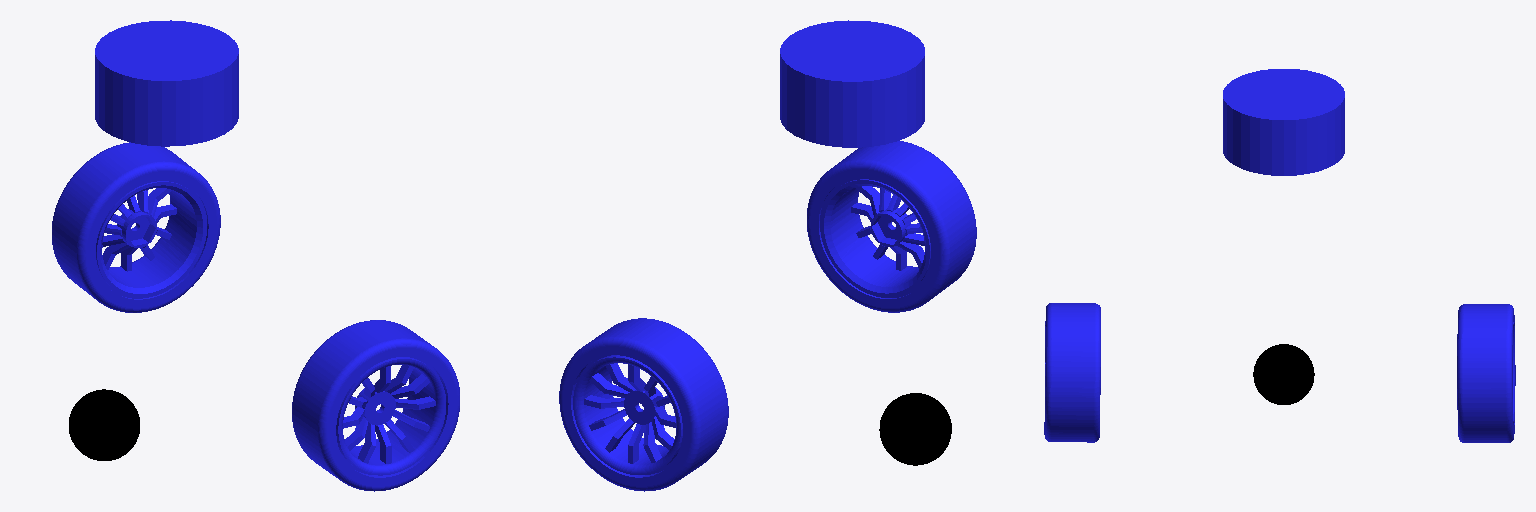
The robot description file, URDF, robot "robot":
<?xml version="1.0" ?>
<!-- =================================================================================== -->
<!-- |    This document was autogenerated by xacro from robot.urdf.xacro               | -->
<!-- |    EDITING THIS FILE BY HAND IS NOT RECOMMENDED                                 | -->
<!-- =================================================================================== -->
<robot name="robot">
  <!-- Specify some standard inertial calculations https://en.wikipedia.org/wiki/List_of_moments_of_inertia -->
  <!-- These make use of xacro's mathematical functionality -->
  <material name="white">
    <color rgba="1 1 1 1"/>
  </material>
  <material name="orange">
    <color rgba="1 0.3 0.1 1"/>
  </material>
  <material name="blue">
    <color rgba="0.2 0.2 1 1"/>
  </material>
  <material name="black">
    <color rgba="0 0 0 1"/>
  </material>
  <!-- BASE LINK -->
  <link name="base_link">

    </link>
  <!-- CHASSIS LINK -->
  <joint name="chassis_joint" type="fixed">
    <parent link="base_link"/>
    <child link="chassis"/>
    <origin xyz = "0 0 0"/>
  </joint>
  <link name="chassis">
    <visual>
      <!-- <origin xyz="0.15 0 0.075"/> -->
      <geometry>
        <!-- import file stl มีหน่วยเป็นเมตร ขนาดคือส่วนที่กำหนดมาแล้วจาก STL โดยที่ปรับคือการปรับ scale xyz `-->
        <mesh filename="package://mobile-0244/stl/assbodynew.STL" scale = "0.001 0.001 0.001 "/>
        <!-- <box size="0.3 0.3 0.15"/> -->
      </geometry>
      <!-- y x z -->
      <origin xyz = "-0.1 -0.105 -0.07 " rpy = "1.56 0 1.56" />
      <material name="white"/>
    </visual>
    <collision>
      <!-- <origin xyz="0.15 0 0.075"/> -->
      <geometry>
        <!-- import file stl มีหน่วยเป็นเมตร ขนาดคือส่วนที่กำหนดมาแล้วจาก STL โดยที่ปรับคือการปรับ scale xyz `-->
        <mesh filename="package://mobile-0244/stl/assbodynew.STL" scale = "0.001 0.001 0.001 "/>
        <!-- <box size="0.3 0.3 0.15"/> -->
      </geometry>
      <origin xyz = "-0.1 -0.105 -0.07 " rpy = "1.56 0 1.56" />

    </collision>
    <inertial>
      <origin xyz = "0 0 0" rpy = "1.56 0 1.56" />
      <mass value="0.5"/>
      <inertia ixx="0.004687499999999999" ixy="0.0" ixz="0.0" iyy="0.004687499999999999" iyz="0.0" izz="0.0075"/>
    </inertial>
  </link>
  <!-- LEFT WHEEL LINK -->
  <joint name="left_wheel" type="continuous">
    <parent link="base_link"/>
    <child link="left_wheel_link"/>
    <!-- <origin rpy="-1.5707963267948966 0 0" xyz="0 0.175 0"/> -->
    <origin xyz = "0.043 0.085 0.034"/>
    <axis xyz="0 0 1"/>
    <dynamics damping="0.5" friction="100.0"/>
  </joint>
  <link name="left_wheel_link">
    <visual>
      <geometry>
      <!-- import file stl มีหน่วยเป็นเมตร ขนาดคือส่วนที่กำหนดมาแล้วจาก STL โดยที่ปรับคือการปรับ scale xyz `-->
        <mesh filename="package://mobile-0244/stl/well.STL" scale = "0.001 0.001 0.001 "/>
        <!-- <cylinder length="0.04" radius="0.05"/> -->
      </geometry>
      <origin xyz = "0.033 0 -0.034" rpy = "1.56 0 3.12" />

      <material name="blue"/>
    </visual>
    <collision>
      <geometry>
      <!-- import file stl มีหน่วยเป็นเมตร ขนาดคือส่วนที่กำหนดมาแล้วจาก STL โดยที่ปรับคือการปรับ scale xyz `-->
        <mesh filename="package://mobile-0244/stl/well.STL" scale = "0.001 0.001 0.001 "/>
        <!-- <cylinder length="0.04" radius="0.05"/> -->
      </geometry>
      <origin xyz = "0.033 0 -0.034" rpy = "1.56 0 0" />

    </collision>
    <inertial>
      <origin xyz = "0 0 0" rpy = "1.56 0 0" />
      <mass value="0.1"/>
      <inertia ixx="7.583333333333335e-05" ixy="0.0" ixz="0.0" iyy="7.583333333333335e-05" iyz="0.0" izz="0.00012500000000000003"/>
    </inertial>
  </link>
  <transmission name="left_wheel_trans" type="SimpleTransmission">
    <type>transmission_interface/SimpleTransmission</type>
    <actuator name="left_wheel_motor">
      <mechanicalReduction>1</mechanicalReduction>
    </actuator>
    <joint name="left_wheel">
      <hardwareInterface>hardware_interface/VelocityJointInterface</hardwareInterface>
    </joint>
  </transmission>
  <!-- RIGHT WHEEL LINK -->
  <joint name="right_wheel" type="continuous">
    <parent link="base_link"/>
    <child link="right_wheel_link"/>
    <origin xyz = "0.04 -0.09 0.034"/>
    <axis xyz="0 0 -1"/>
    <dynamics damping="0.5" friction="100.0"/>
  </joint>
  <link name="right_wheel_link">
    <visual>
      <geometry>
      <!-- import file stl มีหน่วยเป็นเมตร ขนาดคือส่วนที่กำหนดมาแล้วจาก STL โดยที่ปรับคือการปรับ scale xyz `-->
        <mesh filename="package://mobile-0244/stl/well.STL" scale = "0.001 0.001 0.001 "/>
        <!-- <cylinder length="0.04" radius="0.05"/> -->
      </geometry>
      <!-- <origin xyz = "0.01 -0.09 0" rpy = "1.56 0 0" /> -->
      <origin xyz = "-0.033 0 -0.034" rpy = "1.56 0 0" />
      <material name="blue"/>
    </visual>
    <collision>
      <geometry>
      <!-- import file stl มีหน่วยเป็นเมตร ขนาดคือส่วนที่กำหนดมาแล้วจาก STL โดยที่ปรับคือการปรับ scale xyz `-->
        <mesh filename="package://mobile-0244/stl/well.STL" scale = "0.001 0.001 0.001 "/>
        <!-- <cylinder length="0.04" radius="0.05"/> -->
      </geometry>
      <origin xyz = "-0.033 0 -0.034" rpy = "1.56 0 0" />
      
    </collision>
    <inertial>
      <origin xyz = "0 0 0" rpy = "1.56 0 0" />
      <mass value="0.1"/>
      <inertia ixx="7.583333333333335e-05" ixy="0.0" ixz="0.0" iyy="7.583333333333335e-05" iyz="0.0" izz="0.00012500000000000003"/>
    </inertial>
  </link>
  <transmission name="right_wheel_trans" type="SimpleTransmission">
    <type>transmission_interface/SimpleTransmission</type>
    <actuator name="right_wheel_motor">
      <mechanicalReduction>1</mechanicalReduction>
    </actuator>
    <joint name="right_wheel">
      <hardwareInterface>hardware_interface/VelocityJointInterface</hardwareInterface>
    </joint>
  </transmission>
  <!--Front CASTER WHEEL LINK -->
  <!-- <joint name="caster_wheel_joint" type="fixed">
        <parent link="chassis"/>
        <child link="caster_wheel"/>
        <origin xyz="0.24 0 0"/>
        <dynamics damping="0.0" friction="0.0" />
    </joint> -->
  <joint name="caster_wheel_joint" type="continuous"> -->
    <parent link="chassis"/>
    <child link="caster_wheel"/>
    <origin xyz="-0.03 0 0"/>
    <axis xyz="0 1 0"/>
    <!-- Axis of rotation perpendicular to the wheel -->
    <dynamics damping="0.0" friction="0.0"/>
  </joint>
  <link name="caster_wheel">
    <visual>
      <geometry>
        <sphere radius="0.015"/>
      </geometry>
      <material name="black"/>
    </visual>
    <collision>
      <geometry>
        <sphere radius="0.015"/>
      </geometry>
      <surface>
        <friction>
          <ode>
            <mu>0.0</mu>
            <!-- Set friction to zero -->
            <mu2>0.0</mu2>
            Set friction to zero
          </ode>
        </friction>
      </surface>
    </collision>
    <inertial>
      <origin rpy="0 0 0" xyz="0 0 0"/>
      <mass value="0.1"/>
      <inertia ixx="0.00010000000000000005" ixy="0.0" ixz="0.0" iyy="0.00010000000000000005" iyz="0.0" izz="0.00010000000000000005"/>
    </inertial>
  </link>

      <!-- Add a Sensor Link -->
  <link name="lidar_link">
      <visual>
        <!-- Visual properties of the lidar sensor -->
        <geometry>
            <cylinder radius="0.03" length="0.03" /> <!-- Example shape, adjust as needed -->
        </geometry>
          <material name="blue" /> <!-- Example material, adjust as needed -->
      </visual>
      <collision>
        <!-- Collision properties of the lidar sensor -->
        <geometry>
            <cylinder radius="0.03" length="0.06" /> <!-- Example shape, adjust as needed -->
        </geometry>
      </collision>
        <!-- Define inertial properties if necessary -->
  </link>

    <!-- Attach the Sensor to the Robot -->
  <joint name="lidar_joint" type="fixed">
    <parent link="chassis"/>
    <child link="lidar_link"/>
    <origin xyz="0 0 0.15" rpy="0 0 0"/>
  </joint>

  <gazebo reference="lidar_link">
    <material>Gazebo/Red</material>
 
      <sensor name="lidar" type="ray">
        <pose> 0 0 0 0 0 0 </pose>
        <visualize>true</visualize>
        <update_rate>10</update_rate>
        <ray>
          <scan>
              <horizontal>
                <samples>360</samples>
                <min_angle>-3.14</min_angle>
                <max_angle>3.14</max_angle>
              </horizontal>
          </scan>
          <range>
            <min>0.3</min>
            <max>12</max>
          </range>
        </ray>
            <!-- <plugin name="laser_controller" filename="libgazebo_ros_ray_sensor.so">
                <ros>
                    <argument>~/out:=scan</argument>
                </ros>
                <output_type>sensor_msgs/LaserScan</output_type>
                <frame_name>lidar_link</frame_name>
            </plugin> -->
        <plugin name="lidar_controller" filename="libgazebo_ros_laser.so">
          <topicName>/scan</topicName>
          <frameName>lidar_link</frameName>
        </plugin>

      </sensor>
  </gazebo>
    

  <gazebo>
    <plugin filename="libgazebo_ros_control.so" name="gazebo_ros_control">
      <robotNamespace>/</robotNamespace>
      <legacyModeNS>true</legacyModeNS>
    </plugin>
  </gazebo>
  <!-- use component -->
</robot>

--- What the picture shows (computed from the rendered views, not written in the file) ---
3 views of the same robot in one strip: view 1: azimuth 30°, elevation 25°; view 2: azimuth 150°, elevation 25°; view 3: azimuth 270°, elevation 25° (orthographic).
Model robot with 6 links and 5 joints (3 continuous, 2 fixed), rooted at base_link, posed all joints at 0.
Visible links, largest first — view 1: right_wheel_link, left_wheel_link, lidar_link, caster_wheel; view 2: left_wheel_link, right_wheel_link, lidar_link, caster_wheel; view 3: lidar_link, left_wheel_link, right_wheel_link, caster_wheel.
Link boxes in pixels (box(x1,y1,x2,y2)): right_wheel_link: box(292, 320, 459, 491); left_wheel_link: box(52, 142, 220, 312); lidar_link: box(95, 20, 238, 146); caster_wheel: box(69, 389, 139, 460); left_wheel_link: box(559, 318, 728, 491); right_wheel_link: box(807, 141, 976, 312); lidar_link: box(780, 20, 924, 147); caster_wheel: box(879, 393, 951, 465); lidar_link: box(1223, 69, 1344, 175); left_wheel_link: box(1457, 304, 1515, 442); right_wheel_link: box(1044, 303, 1100, 442); caster_wheel: box(1253, 344, 1314, 404).
Size in the robot's own frame: 0.1215 by 0.2301 by 0.18 metres.
2 mesh visuals loaded from 2 distinct referenced files (1 binary STL); not drawn: 1 (reference not matched to a file when rendering).
